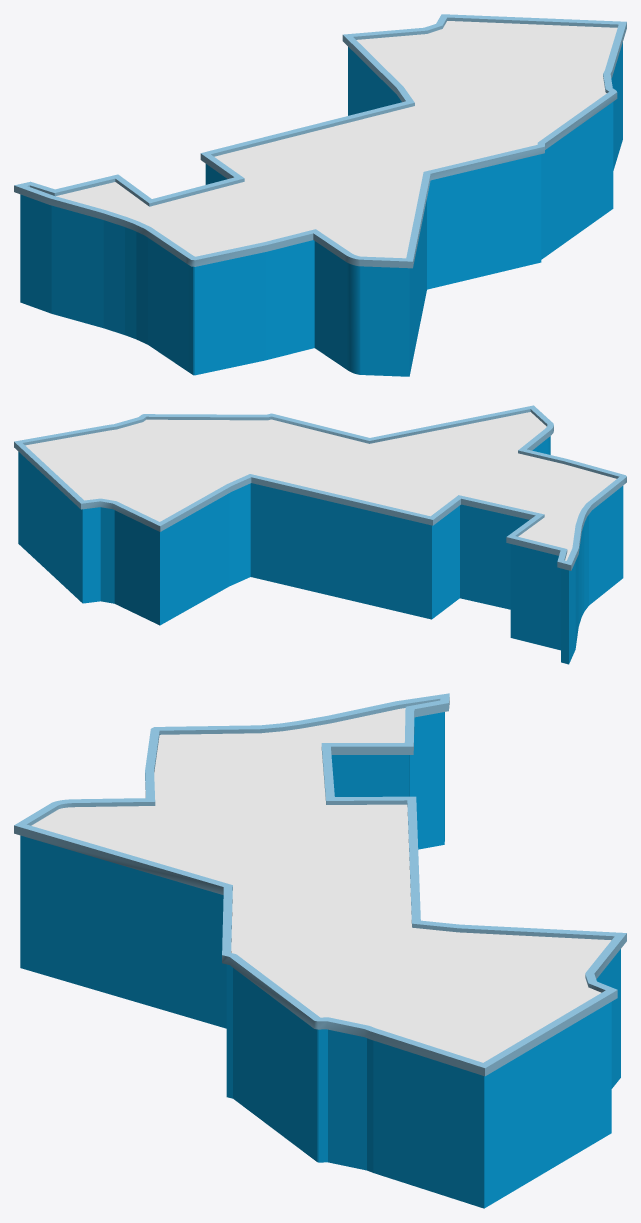
3 renders of one model, top to bottom at view 1: azimuth 30°, elevation 25°; view 2: azimuth 150°, elevation 25°; view 3: azimuth 270°, elevation 25°, orthographic. The views are drawn at different scales.
Parts seen in each view (by area): view 1: slide, celling, 扫描.1; view 2: slide, celling, 扫描.1; view 3: slide, celling, 扫描.1.
Boxes of the visible parts, bbox=[...] form: slide: bbox=[20, 42, 622, 376]; celling: bbox=[56, 21, 617, 258]; 扫描.1: bbox=[14, 14, 626, 268]; slide: bbox=[18, 436, 623, 664]; celling: bbox=[25, 412, 616, 560]; 扫描.1: bbox=[14, 405, 626, 570]; slide: bbox=[20, 712, 620, 1208]; celling: bbox=[31, 708, 611, 1062]; 扫描.1: bbox=[14, 693, 626, 1076].
Bounding box in the file's own units: 289 × 51.47 × 200.
